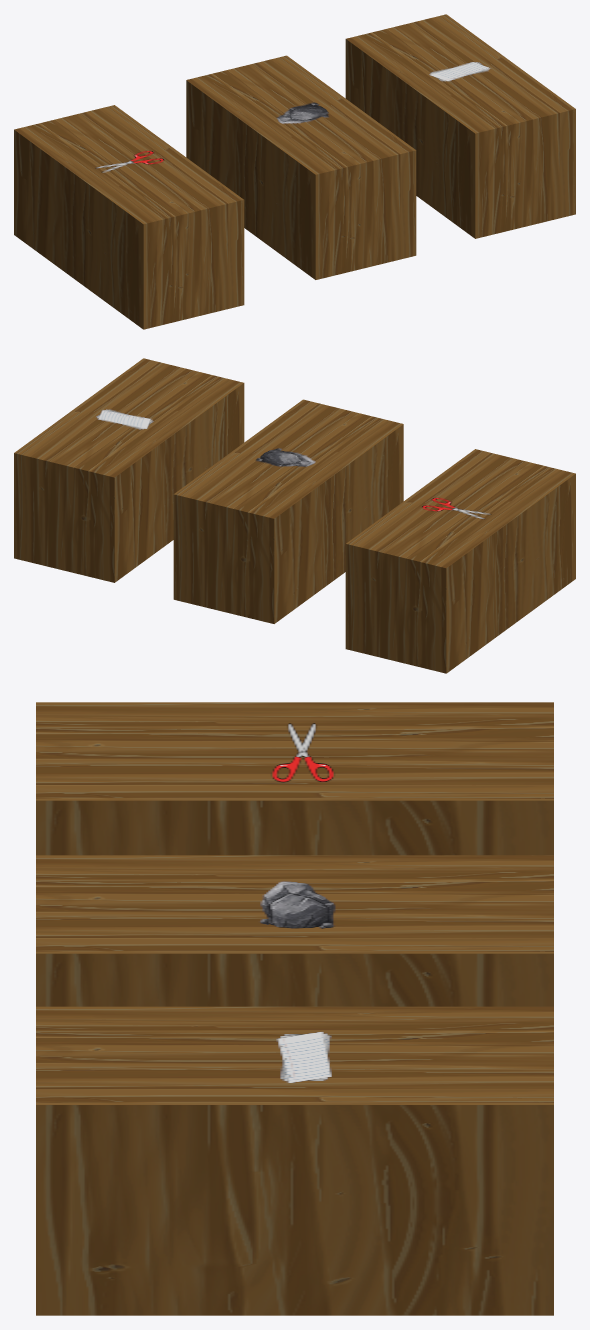
File: fichas_correjidas.fbx
3 views of the same model, one above another, from view 1: azimuth 30°, elevation 25°; view 2: azimuth 150°, elevation 25°; view 3: azimuth 270°, elevation 25° (orthographic). The views are drawn at different scales.
Parts seen in each view (by area): view 1: VR_Jenga:pCube40, VR_Jenga:pCube24, VR_Jenga:pCube8; view 2: VR_Jenga:pCube40, VR_Jenga:pCube24, VR_Jenga:pCube8; view 3: VR_Jenga:pCube8, VR_Jenga:pCube40, VR_Jenga:pCube24.
Part boxes in pixels (box(x1,y1,x2,y2)): VR_Jenga:pCube40: box(14, 105, 244, 329); VR_Jenga:pCube24: box(186, 55, 416, 279); VR_Jenga:pCube8: box(345, 14, 575, 238); VR_Jenga:pCube40: box(345, 449, 575, 673); VR_Jenga:pCube24: box(173, 399, 403, 623); VR_Jenga:pCube8: box(14, 358, 244, 582); VR_Jenga:pCube8: box(36, 1006, 553, 1315); VR_Jenga:pCube40: box(36, 702, 553, 855); VR_Jenga:pCube24: box(36, 855, 553, 1006).
Bounding box in the file's own units: 4.3 × 1.09 × 2.23.
3 materials, 3 textured.
